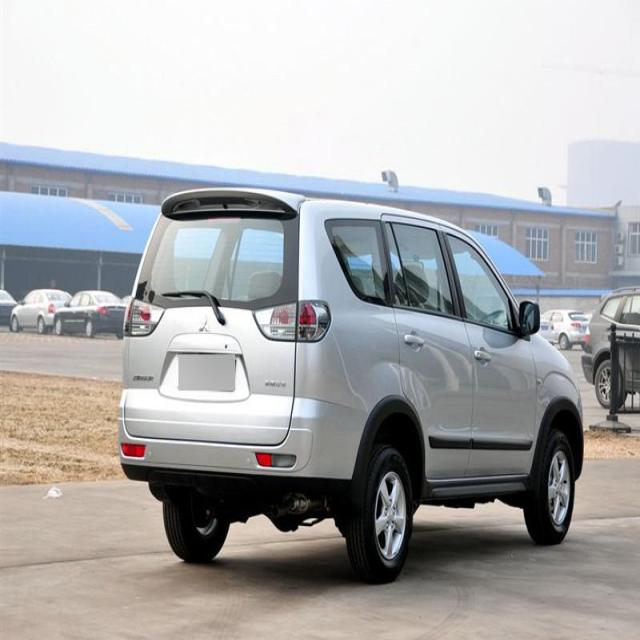back_glass: (134, 211, 300, 307)
back_left_side_light: (125, 296, 165, 341)
back_right_side_light: (254, 298, 332, 342)
door: (379, 218, 474, 484)
front_right_side_door: (442, 222, 538, 482)
front_right_side_mirror: (518, 298, 541, 336)
rear_bumper: (117, 388, 367, 486)
wheel: (347, 447, 414, 582), (526, 432, 574, 543), (160, 491, 230, 561)
